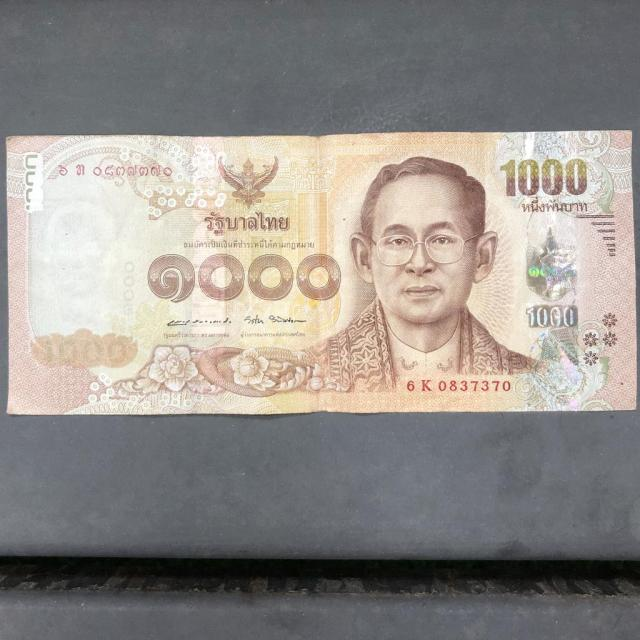THAI1000: (7, 131, 634, 414)
